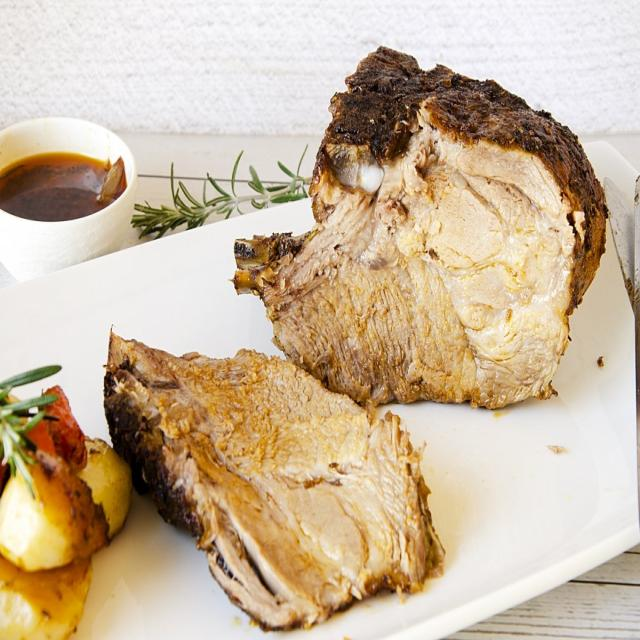carne de cerdo: (103, 314, 450, 634)
